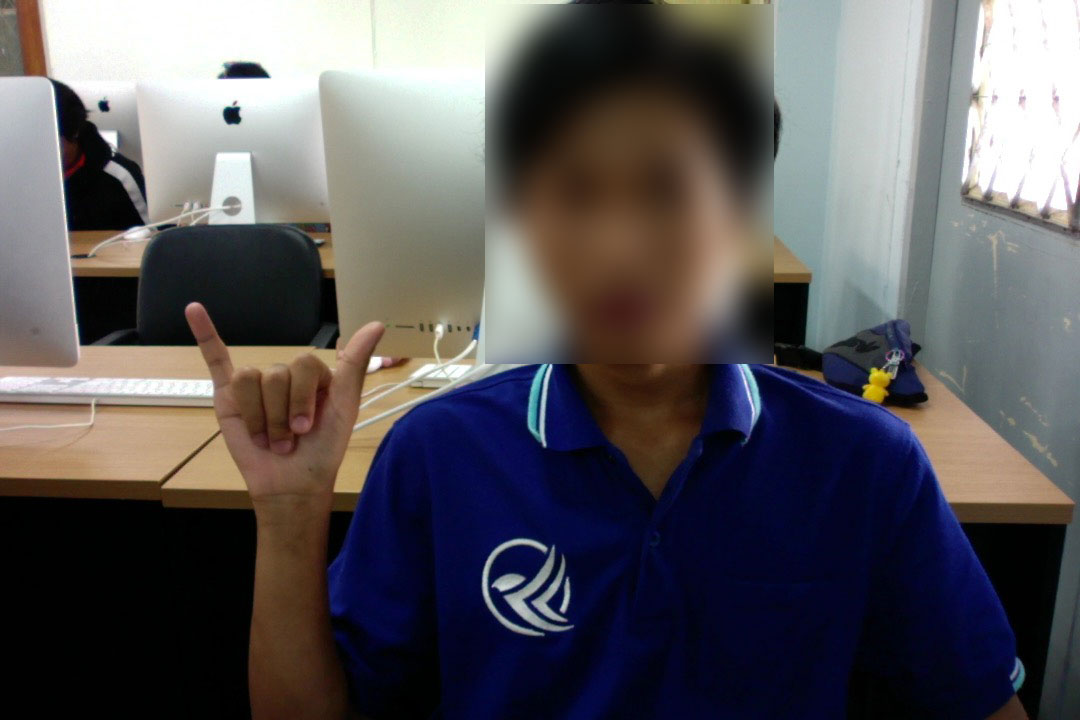yor: (175, 289, 390, 507)
